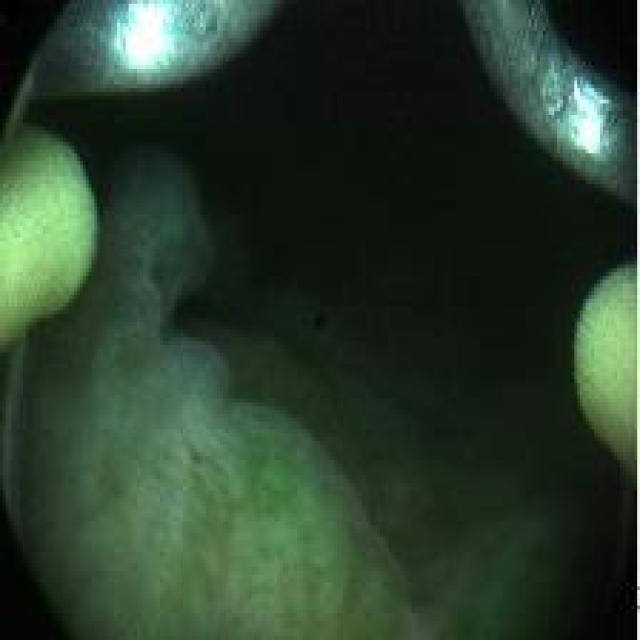color misalignment: (307, 303, 333, 341)
contrast: (33, 5, 630, 353), (544, 477, 632, 631)
instrument: (468, 9, 636, 201), (22, 5, 287, 91), (1, 126, 95, 337), (573, 258, 632, 484)
specularity: (118, 0, 184, 75), (566, 72, 607, 161)
